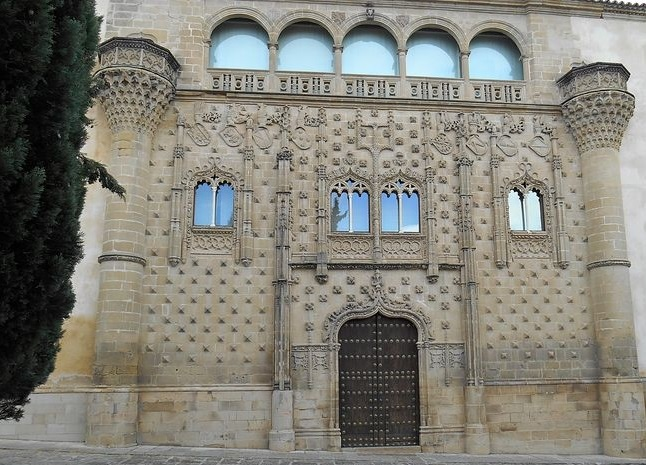arco-conopial: (331, 293, 426, 326), (184, 159, 242, 188), (373, 167, 426, 192), (499, 167, 552, 192), (324, 166, 375, 191)
arco-medio-punto: (204, 6, 274, 52), (272, 8, 339, 55), (402, 14, 466, 61), (464, 18, 529, 63), (339, 11, 403, 56)
